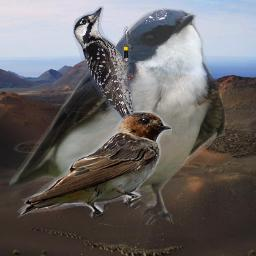Swallow: (9, 8, 228, 227), (17, 109, 172, 221)
Woodpecker: (73, 6, 145, 145)
